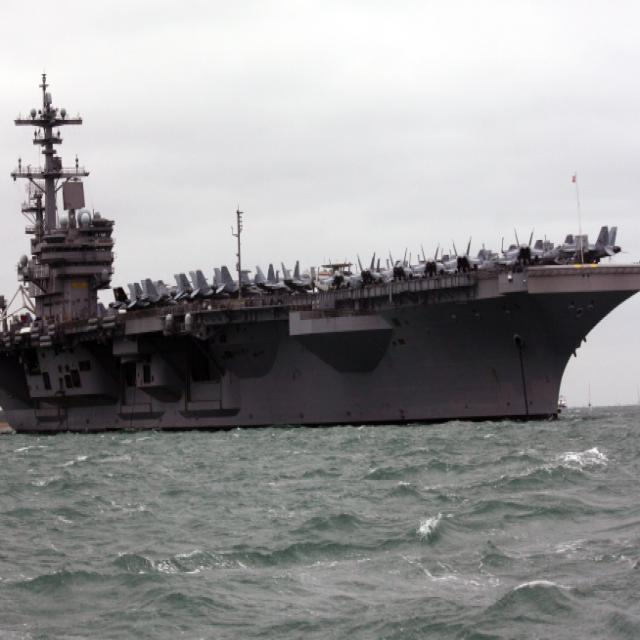Portanaves: (1, 65, 640, 425)
